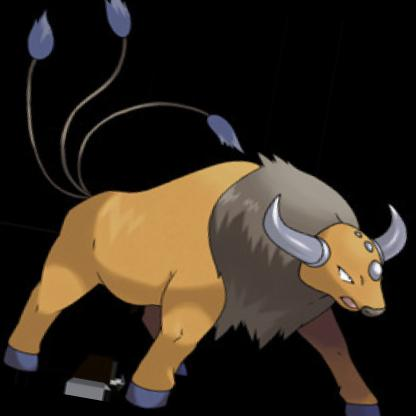Tauros: (1, 1, 416, 416)
